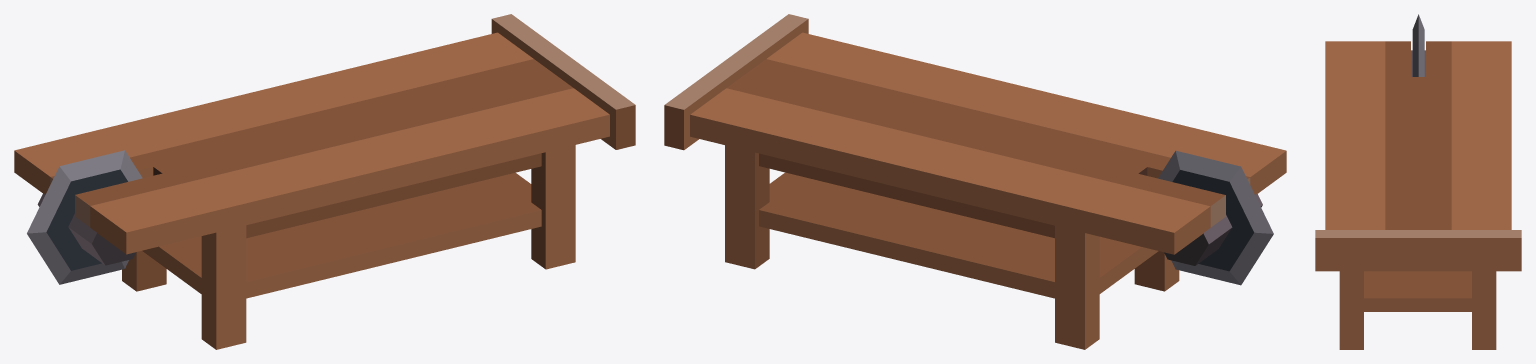
The model's file is TB_Prop_LumberDesk.FBX.
3 views of the same model, side by side, from view 1: azimuth 30°, elevation 25°; view 2: azimuth 150°, elevation 25°; view 3: azimuth 270°, elevation 25° (orthographic). The views are drawn at different scales.
Parts seen in each view (by area): view 1: TB_Prop_LumberDesk, TB_Prop_LumberDesk_Blade; view 2: TB_Prop_LumberDesk, TB_Prop_LumberDesk_Blade; view 3: TB_Prop_LumberDesk, TB_Prop_LumberDesk_Blade.
Boxes of the visible parts, <box> form: TB_Prop_LumberDesk: <box>14,14,635,349</box>; TB_Prop_LumberDesk_Blade: <box>27,150,142,284</box>; TB_Prop_LumberDesk: <box>664,14,1286,349</box>; TB_Prop_LumberDesk_Blade: <box>1158,150,1273,285</box>; TB_Prop_LumberDesk: <box>1315,41,1521,349</box>; TB_Prop_LumberDesk_Blade: <box>1412,14,1424,76</box>.
Bounding box in the file's own units: 4.02 × 1.23 × 1.58.
